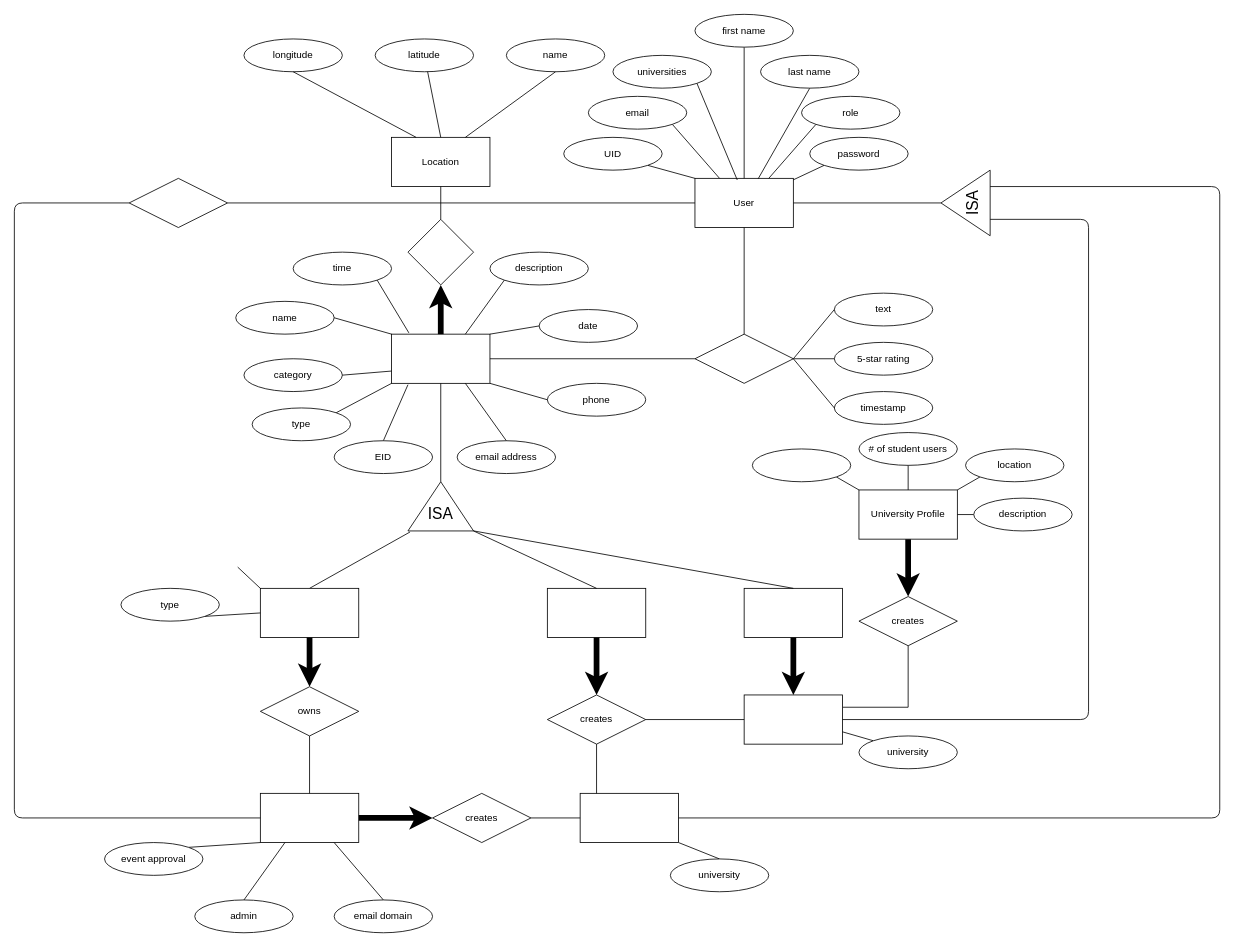
Some shapes in this 1235 by 947 pixel diagram are drawn without their labels. Each missing label, with the centre of its shape:
"Admins" goes at [629,818].
"At" goes at [440,252].
"comments" goes at [743,358].
"Events" goes at [440,358].
"Join" goes at [178,203].
"Private events" goes at [596,613].
"Public Events" goes at [793,613].
"RSO events" goes at [309,613].
"RSOs" goes at [309,818].
"SuperAdmins" goes at [793,719].
"university name" goes at [801,465].
